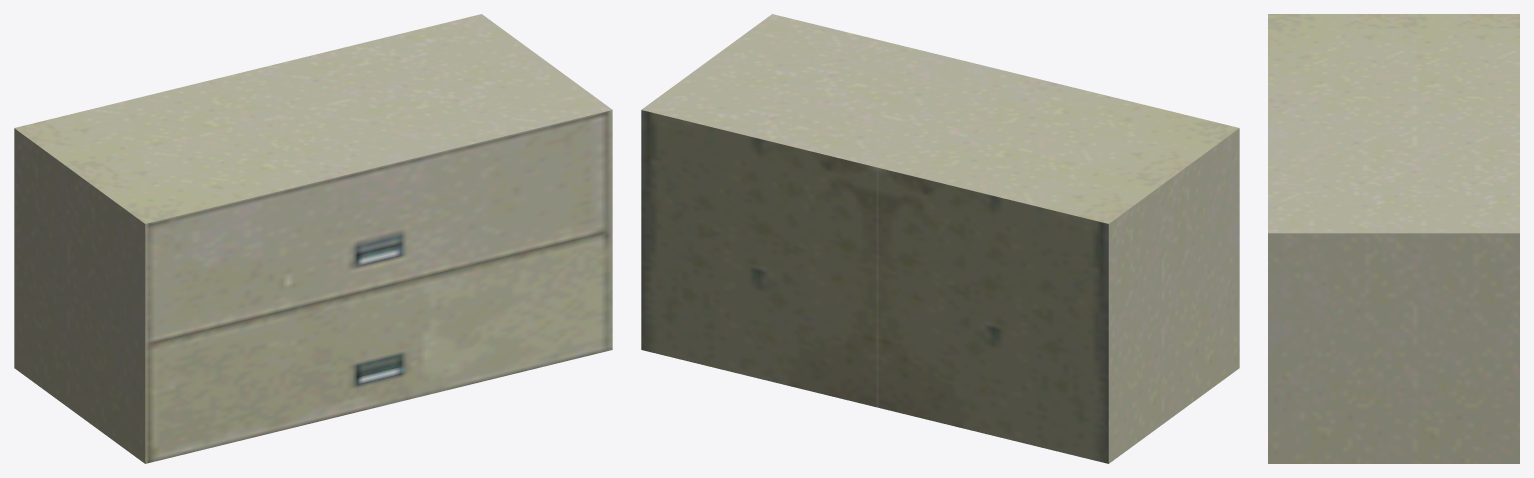
Rendered from file_cabinet_large.obj.
3 renders of one model, left to right at view 1: azimuth 30°, elevation 25°; view 2: azimuth 150°, elevation 25°; view 3: azimuth 270°, elevation 25°, orthographic. The views are drawn at different scales.
Parts seen in each view (by area): view 1: file_cabinet_large; view 2: file_cabinet_large; view 3: file_cabinet_large.
Boxes of the visible parts, x1=… form: file_cabinet_large: x1=14, y1=14, x2=612, y2=463; file_cabinet_large: x1=641, y1=14, x2=1239, y2=463; file_cabinet_large: x1=1268, y1=14, x2=1519, y2=463.
Bounding box in the file's own units: 1.44 × 0.7064 × 0.6994.
